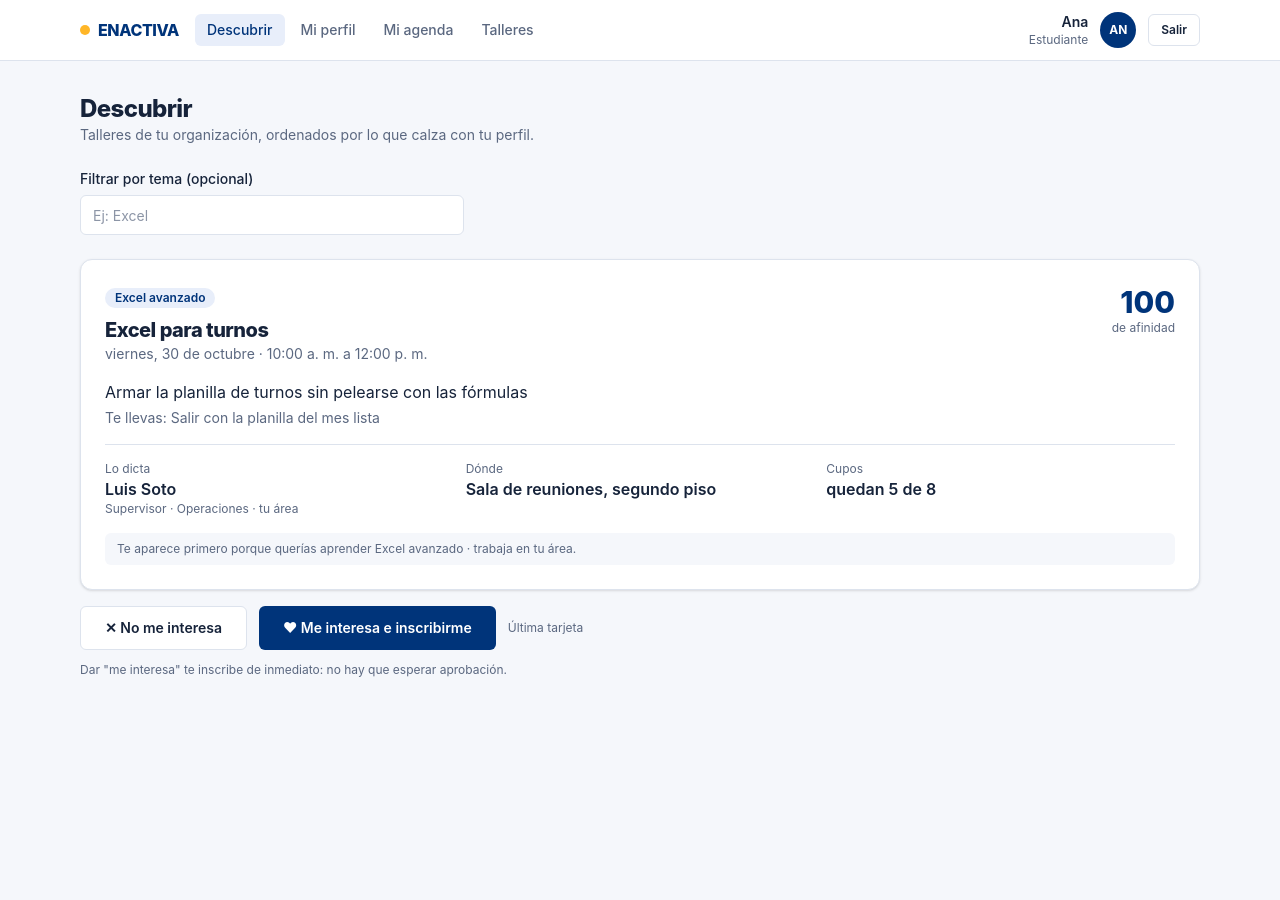
Test: Descubrir (el mazo del swipe) › descartar no inscribe a nadie
Click the button "✕ No me interesa": [163, 628] box [80,606,247,650]
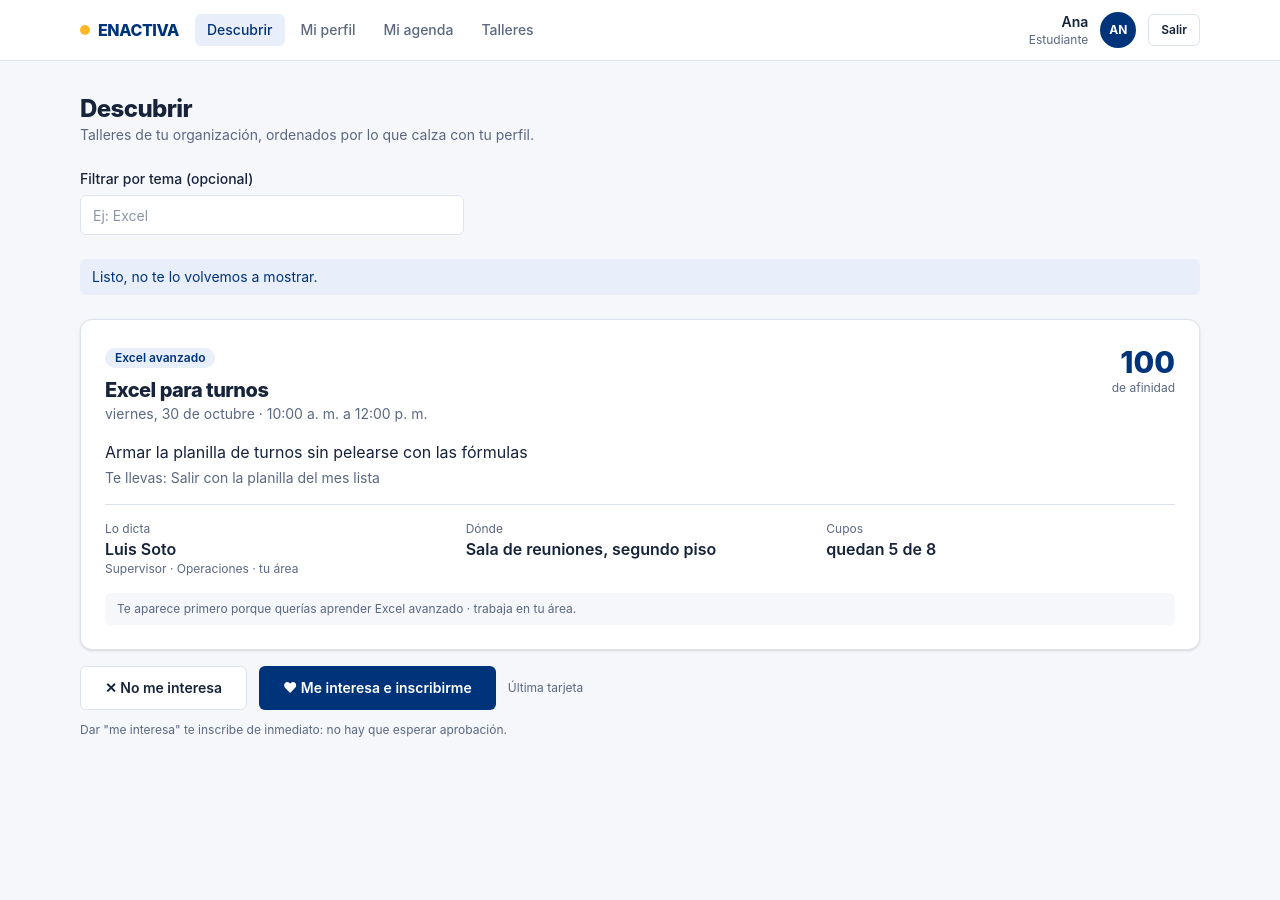
Expected: the message shows "no te lo volvemos a mostrar", [92,268,318,285]
